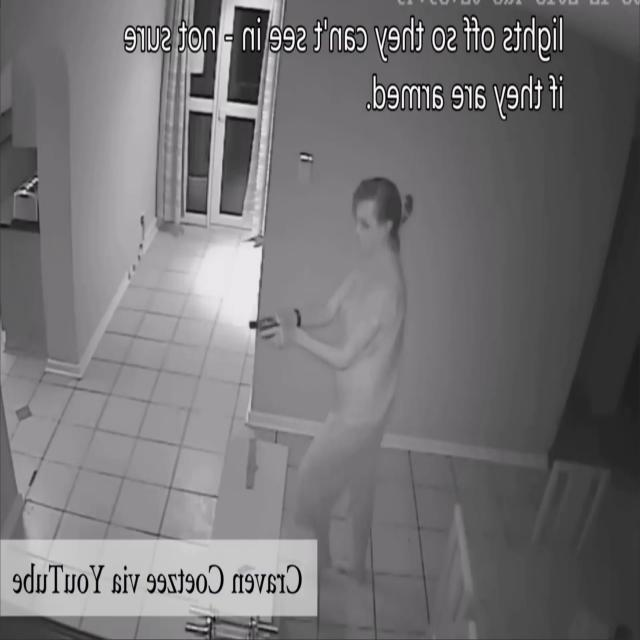Gun: (248, 314, 284, 343)
